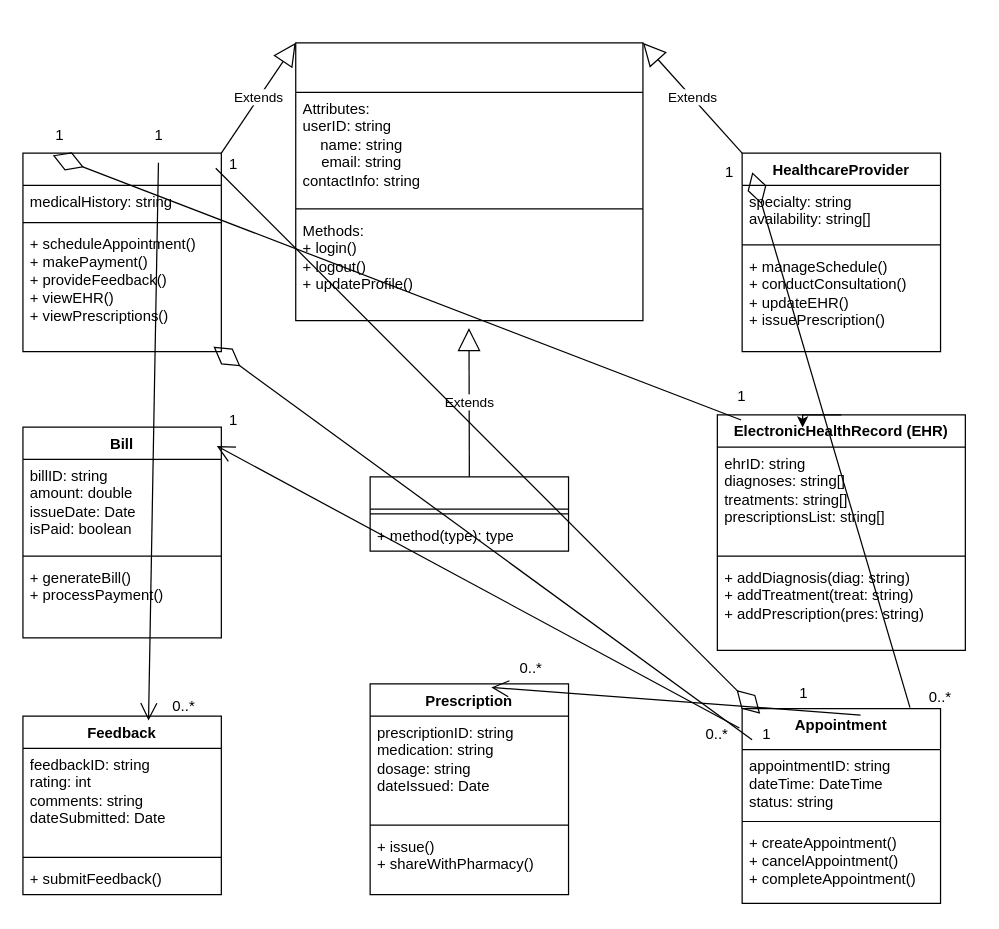
The diagram is 999 pixels wide and 929 high, and some of its shapes have lost their labels. Each missing label, with the box of its shape:
<<abstract>> User: (294, 42, 643, 321)
Administrator: (369, 476, 569, 551)
Patient: (22, 152, 221, 352)
